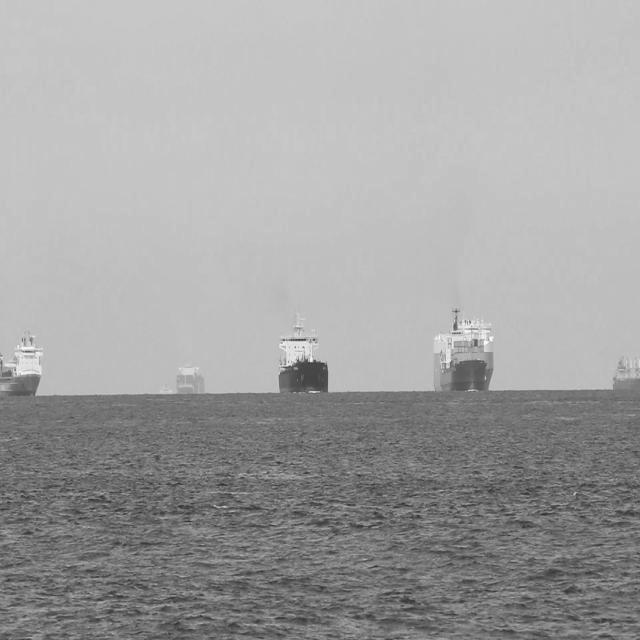ship: (430, 296, 494, 396), (275, 298, 328, 399), (0, 322, 43, 398), (172, 354, 204, 398), (611, 347, 639, 387), (156, 380, 177, 398)
